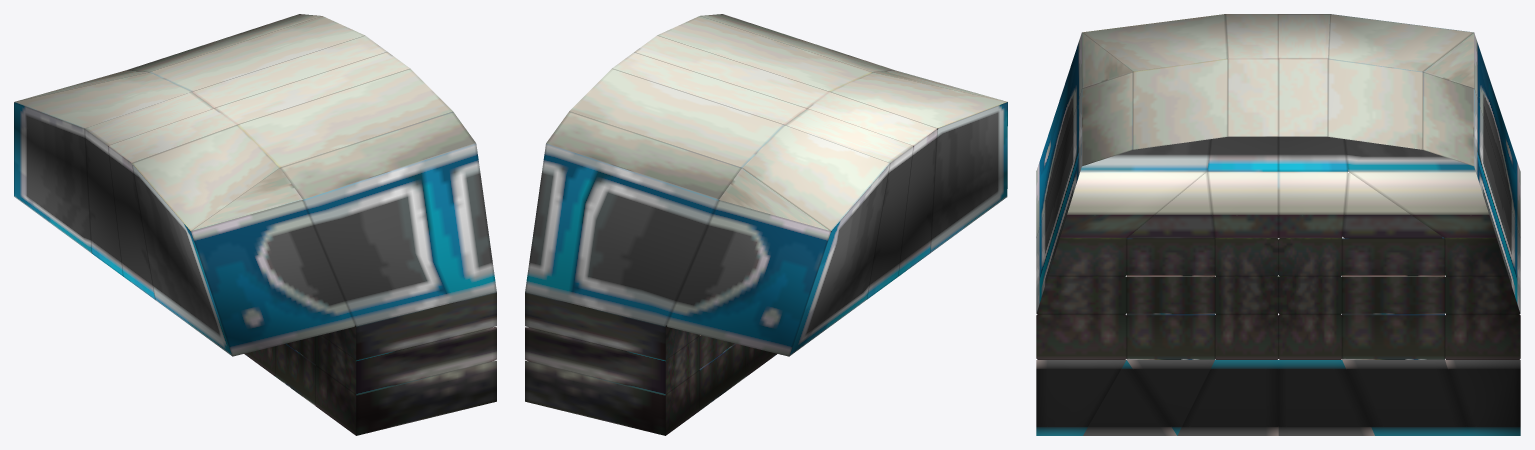
3 views of the same model, side by side, from view 1: azimuth 30°, elevation 25°; view 2: azimuth 150°, elevation 25°; view 3: azimuth 270°, elevation 25° (orthographic). The views are drawn at different scales.
Parts seen in each view (by area): view 1: T1L1M003_20; view 2: T1L1M003_20; view 3: T1L1M003_20.
Boxes of the visible parts, x1=… form: T1L1M003_20: x1=14, y1=14, x2=496, y2=435; T1L1M003_20: x1=525, y1=14, x2=1007, y2=435; T1L1M003_20: x1=1036, y1=14, x2=1520, y2=435.
Bounding box in the file's own units: 1.11 × 1.01 × 1.48.
Materials: 1 (1 with a texture image).
